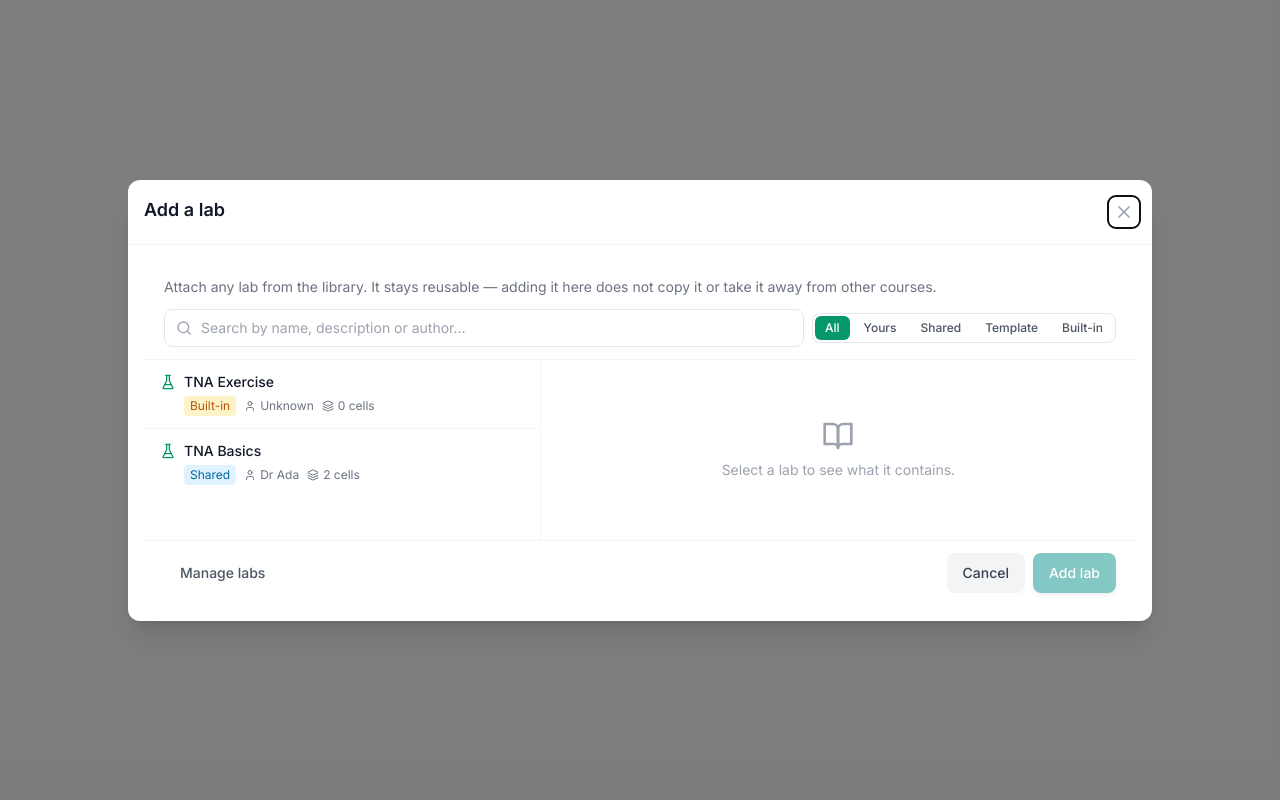
Scenario: built-in exercises in the library › filters to just the built-ins
The width and height of the screenshot is (1280, 800).
Click the button "Built-in": coordinates (1082, 328) [1052,316,1113,340]
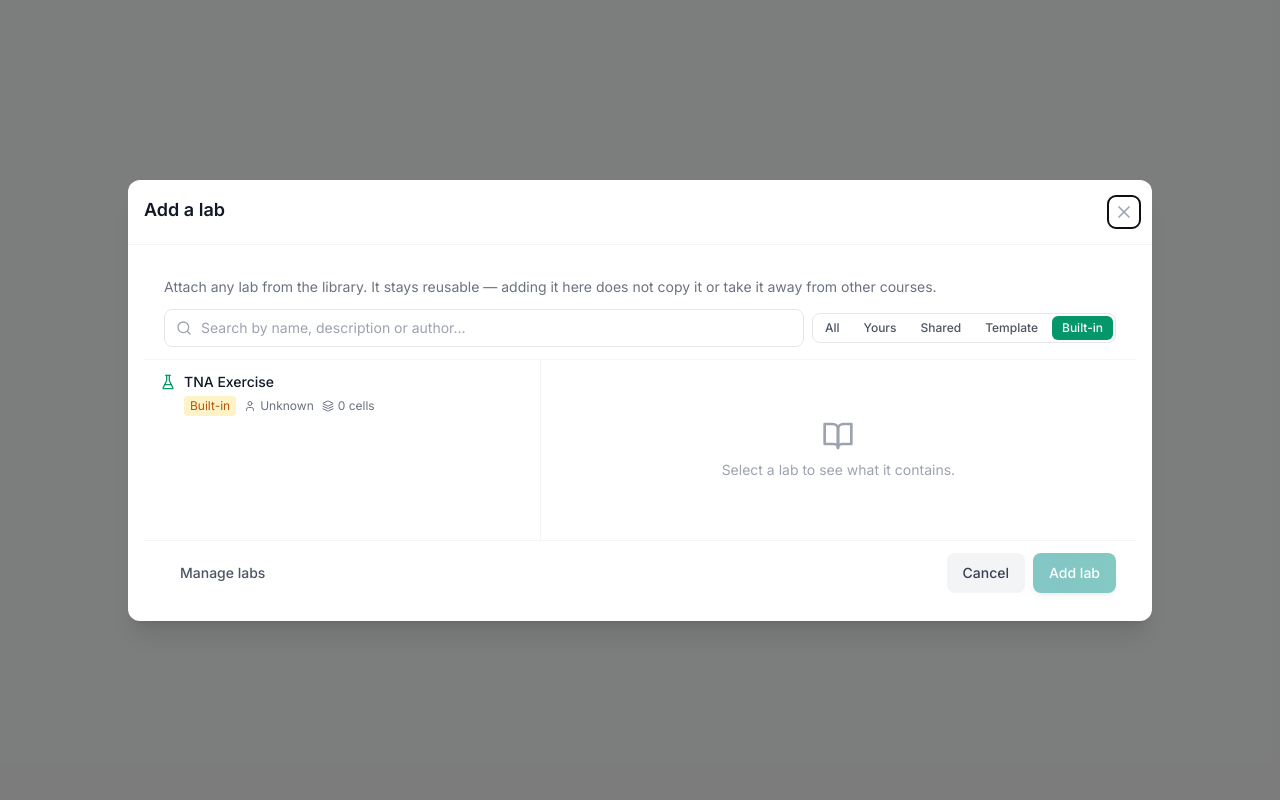
Expected: the text "TNA Exercise" is shown, [184,372,274,392]
Expected: the button "TNA Basics" is gone
